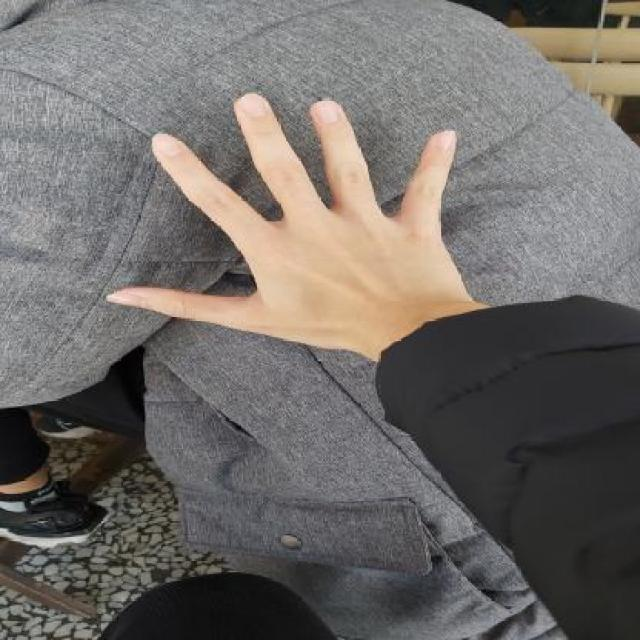Hand: (104, 89, 500, 379)
